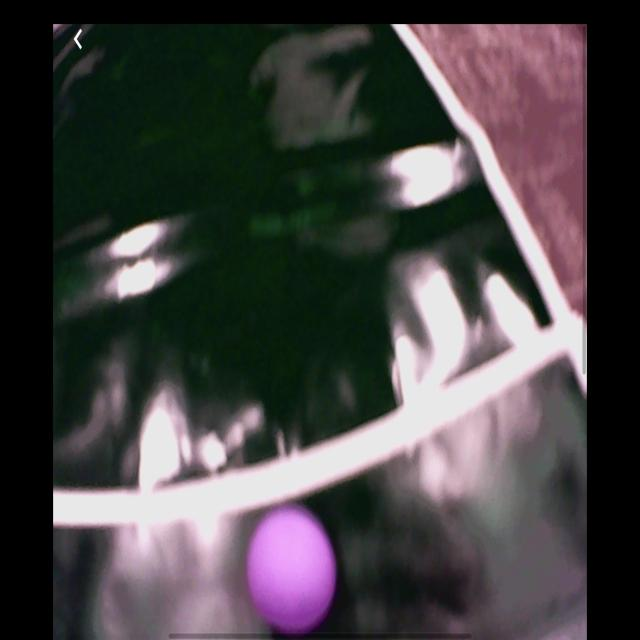ball: (245, 502, 339, 635)
